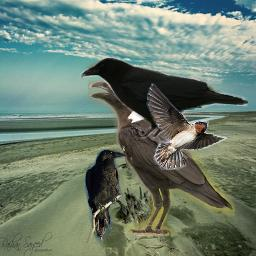Crow: (88, 80, 235, 236), (76, 53, 248, 139), (85, 149, 127, 243)
Swallow: (146, 83, 232, 170)
